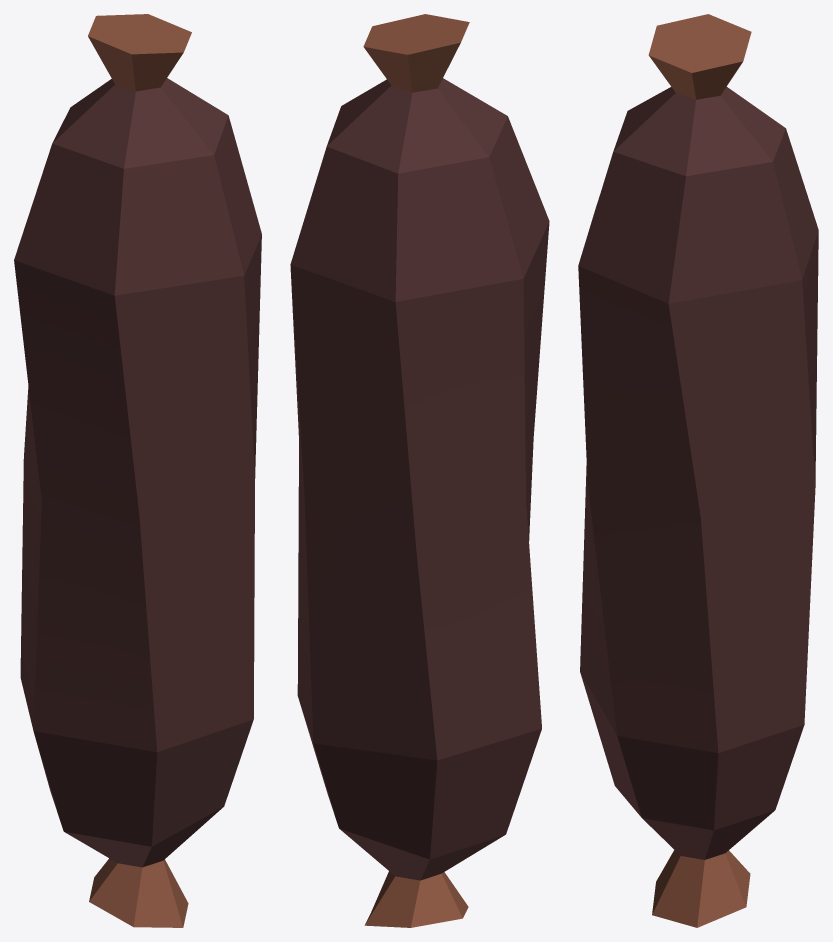
The model's file is SM_Prop_Meat_Sausage_01.glb.
3 views of the same model, side by side, from view 1: azimuth 30°, elevation 25°; view 2: azimuth 150°, elevation 25°; view 3: azimuth 270°, elevation 25° (orthographic). The views are drawn at different scales.
Visible parts, largest first — view 1: SM_Prop_Meat_Sausage_01; view 2: SM_Prop_Meat_Sausage_01; view 3: SM_Prop_Meat_Sausage_01.
Boxes of the visible parts, x1,y1,x2,y2 form: SM_Prop_Meat_Sausage_01: [14, 14, 261, 927]; SM_Prop_Meat_Sausage_01: [290, 14, 549, 927]; SM_Prop_Meat_Sausage_01: [578, 14, 818, 927].
Bounding box in the file's own units: 0.1245 × 0.4564 × 0.1144.
Materials: 1 (1 with a texture image).
